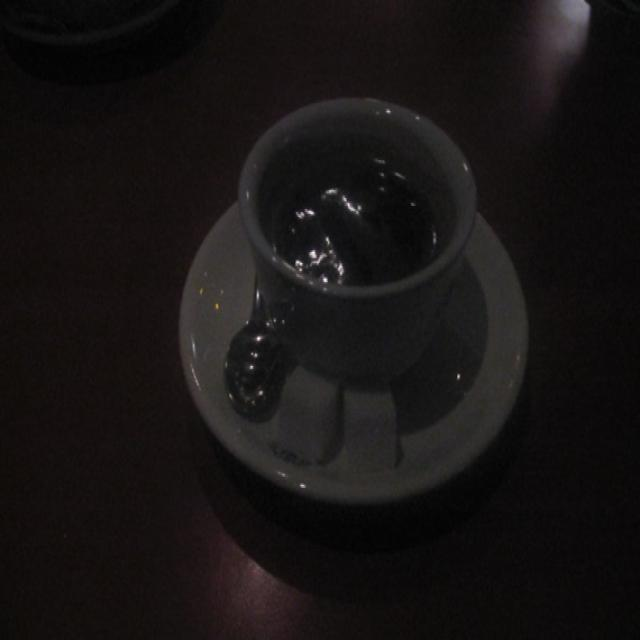Cup: (141, 70, 537, 526)
